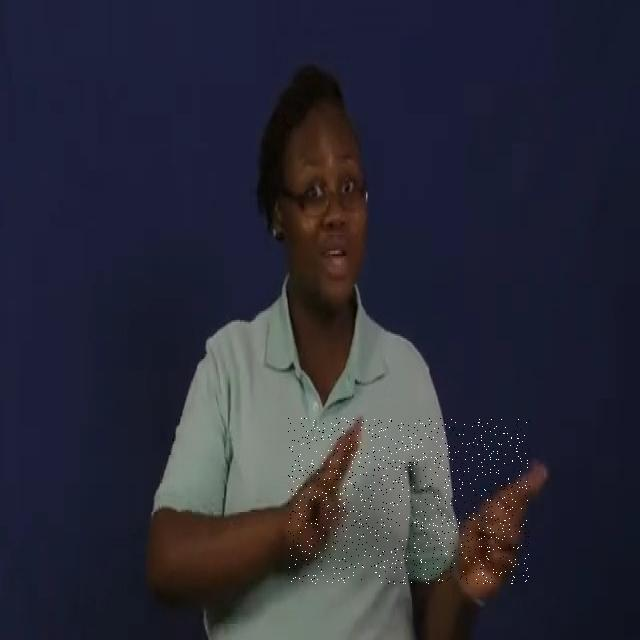ready: (288, 418, 530, 584)
